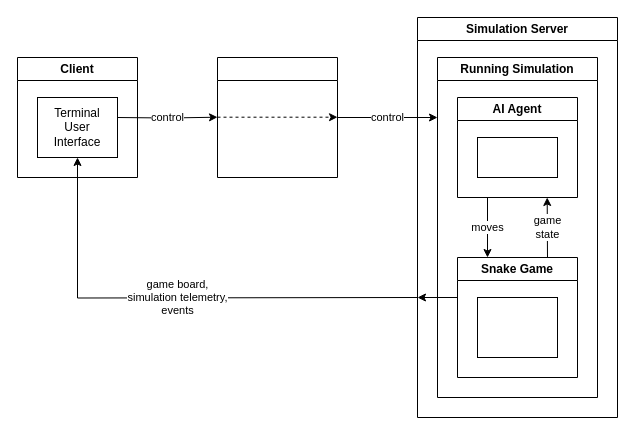
The diagram is 635 pixels wide and 435 high, and some of its shapes have lost their labels. Each missing label, with the centre of its shape:
"Neural Network" belongs at pixel 517 157.
"Router" belongs at pixel 277 117.
"Rules & Geometry" belongs at pixel 517 327.
